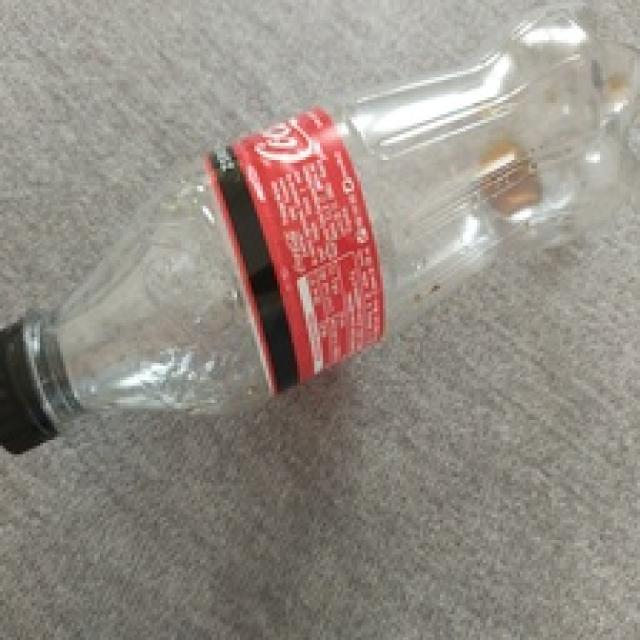plastic bottle: (0, 3, 637, 475)
